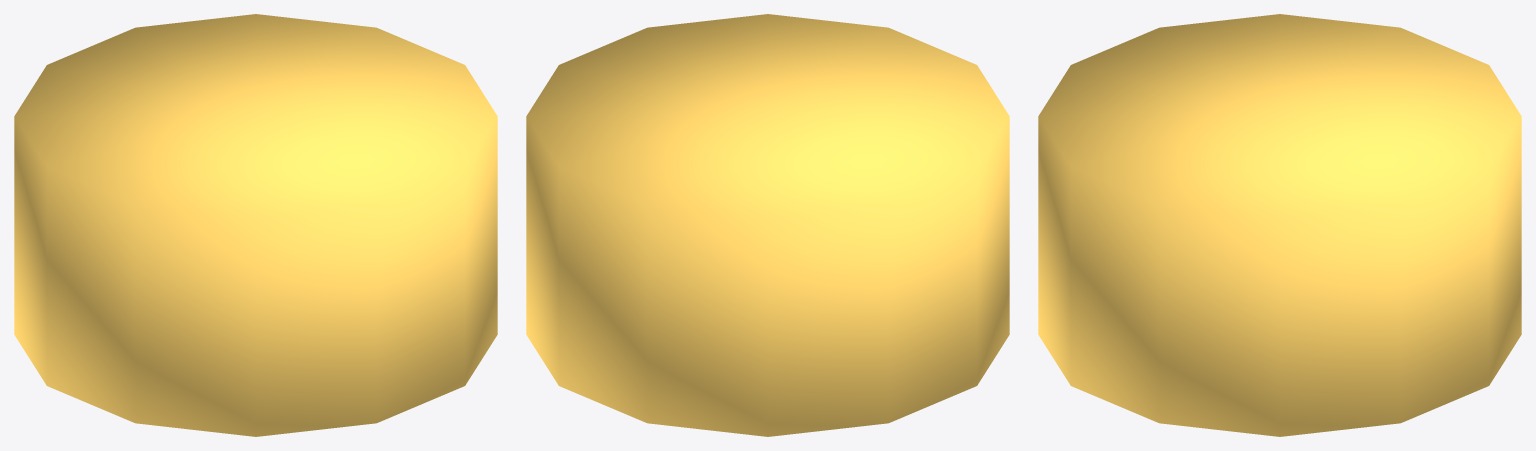
File: prism_beam.glb
3 views of the same model, side by side, from view 1: azimuth 30°, elevation 25°; view 2: azimuth 150°, elevation 25°; view 3: azimuth 270°, elevation 25° (orthographic).
Visible parts, largest first — view 1: effect; view 2: effect; view 3: effect.
Boxes of the visible parts, x1,y1,x2,y2 form: effect: (14, 14, 497, 436); effect: (526, 14, 1009, 436); effect: (1038, 14, 1521, 436).
Bounding box in the file's own units: 2 × 1 × 2.
